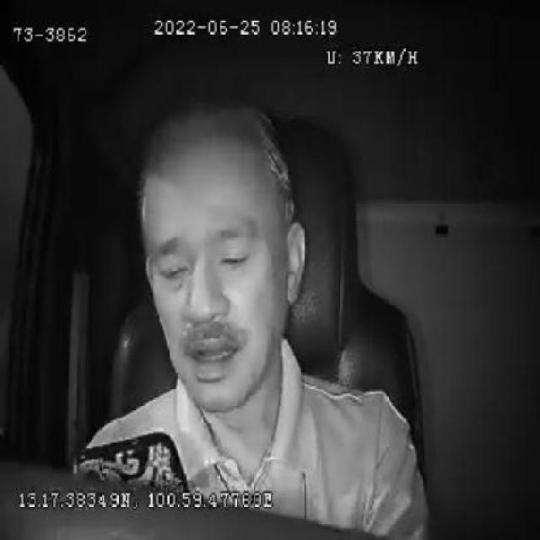phone: (73, 428, 193, 486)
